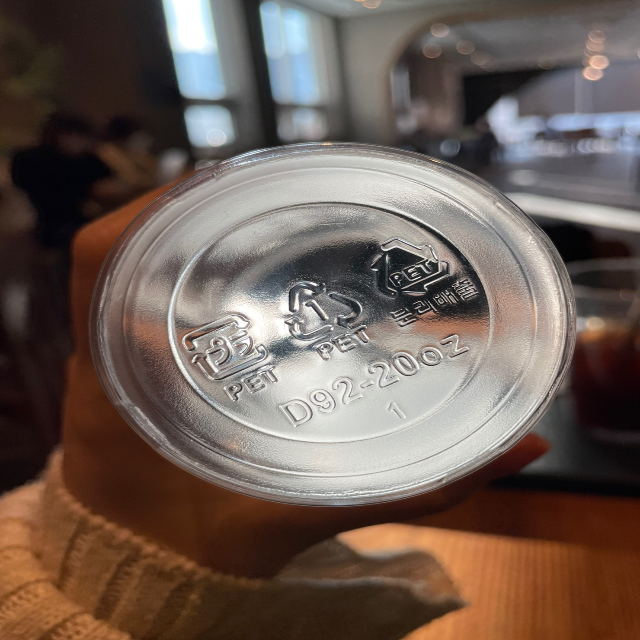pet: (175, 307, 284, 401), (372, 237, 481, 329), (280, 277, 374, 360)
